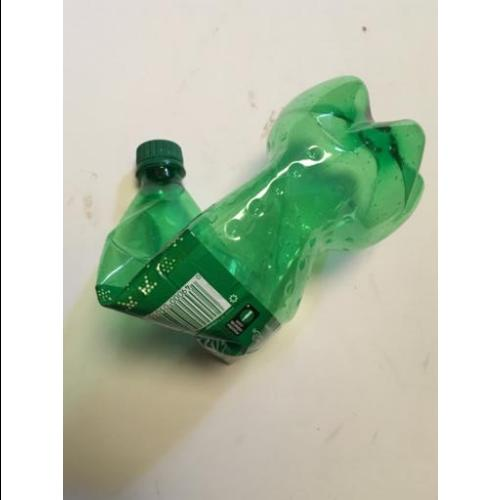plastic: (96, 75, 427, 366)
